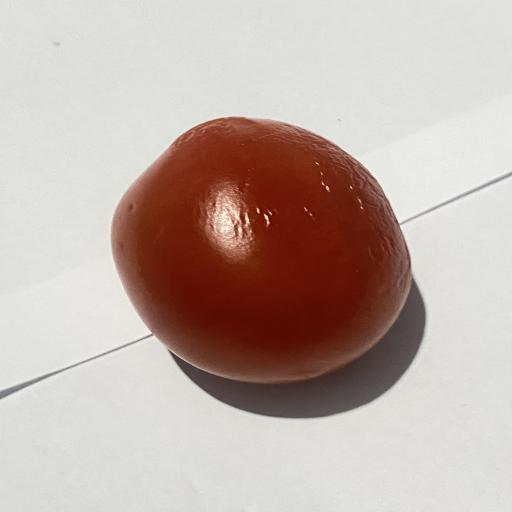spoiled: (112, 117, 411, 382)
